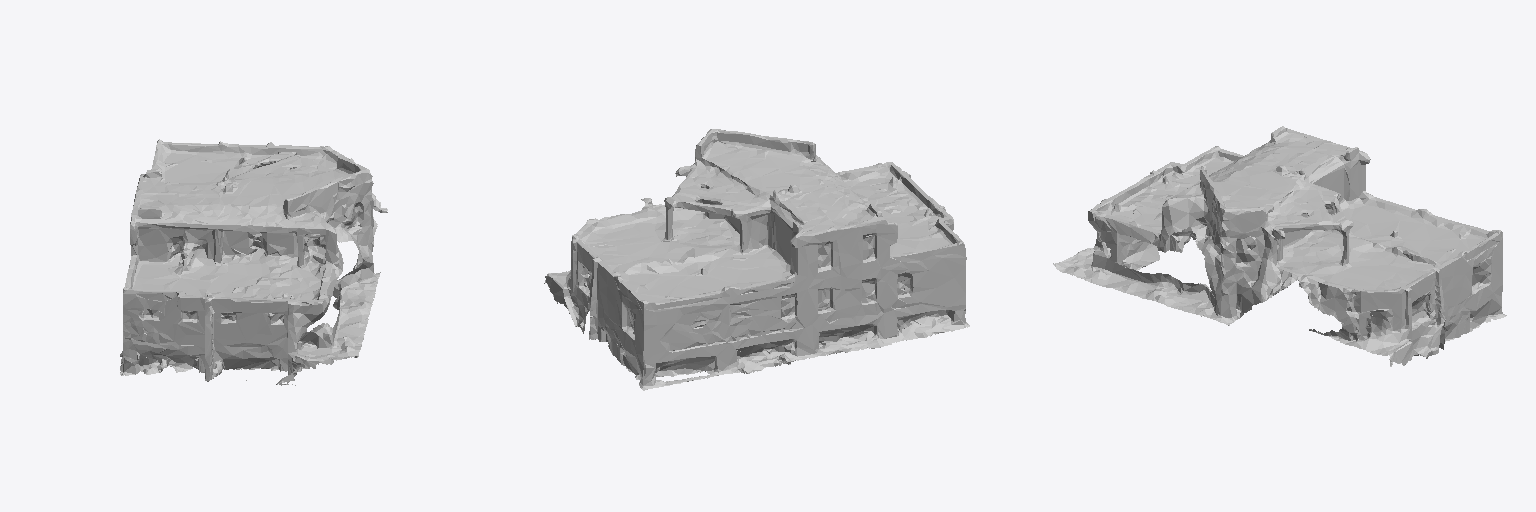
File: Building.obj
3 views of the same model, side by side, from view 1: azimuth 30°, elevation 25°; view 2: azimuth 150°, elevation 25°; view 3: azimuth 270°, elevation 25° (orthographic).
Parts seen in each view (by area): view 1: Building; view 2: Building; view 3: Building.
Boxes of the visible parts, box(x1,y1,x2,y2) form: Building: box(120, 139, 387, 385); Building: box(544, 129, 969, 390); Building: box(1053, 126, 1506, 366).
Bounding box in the file's own units: 27.73 × 13.67 × 32.44.